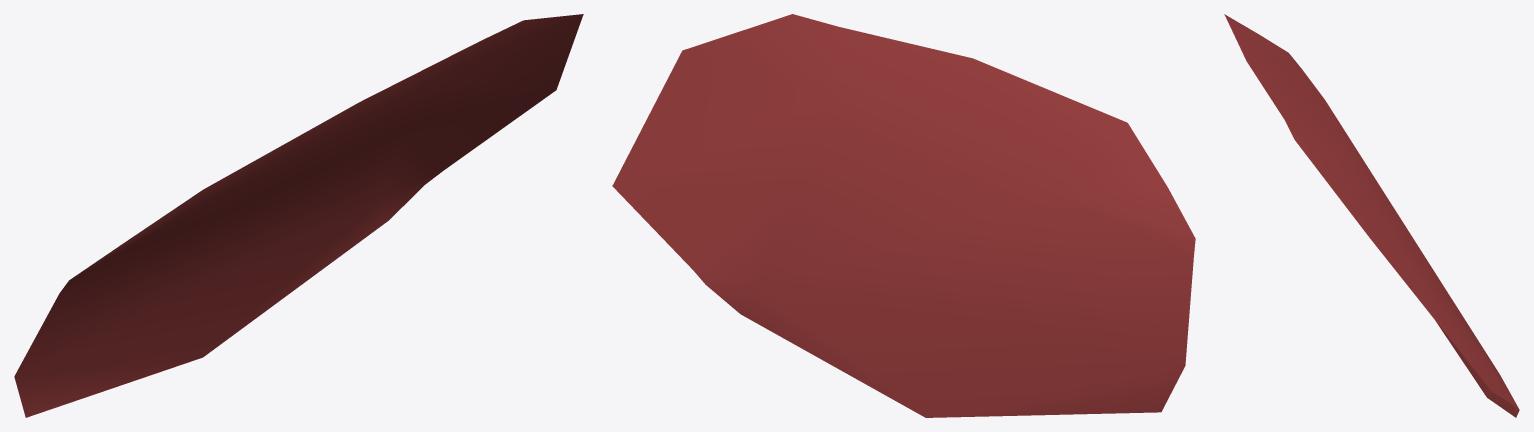
File: longissimus-thoracis-muscle-e22r.glb
3 renders of one model, left to right at view 1: azimuth 30°, elevation 25°; view 2: azimuth 150°, elevation 25°; view 3: azimuth 270°, elevation 25°, orthographic. The views are drawn at different scales.
Parts seen in each view (by area): view 1: Longissimus thoracis muscle.e22r; view 2: Longissimus thoracis muscle.e22r; view 3: Longissimus thoracis muscle.e22r.
Boxes of the visible parts, left/top/right/bottom form: Longissimus thoracis muscle.e22r: left=14, top=14, right=583, bottom=417; Longissimus thoracis muscle.e22r: left=612, top=14, right=1195, bottom=417; Longissimus thoracis muscle.e22r: left=1224, top=14, right=1519, bottom=417.
Bounding box in the file's own units: 0.00497 × 0.00271 × 0.00187.
